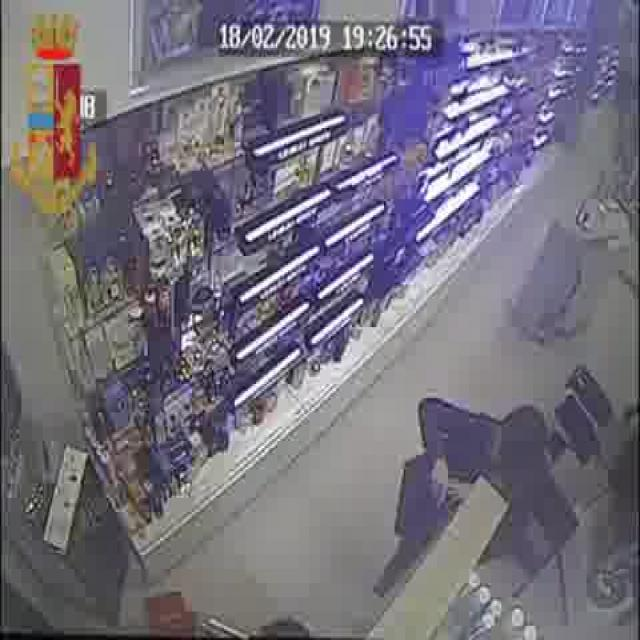persone: (396, 376, 569, 584)
